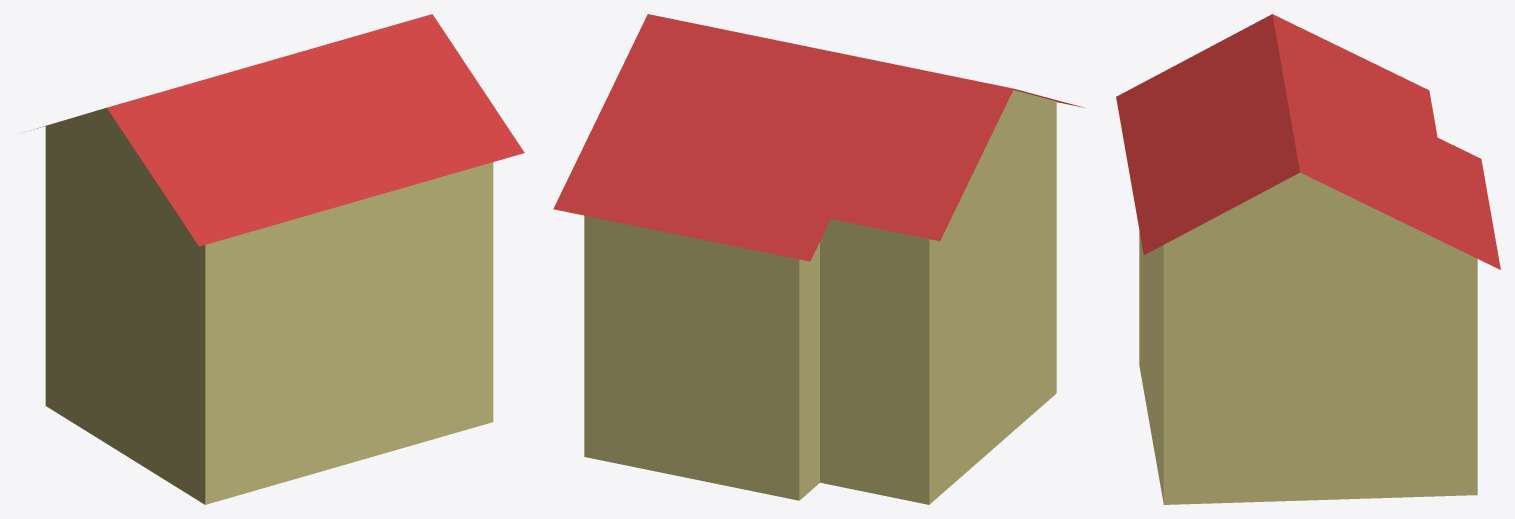
3 views of the same model, side by side, from view 1: azimuth 30°, elevation 25°; view 2: azimuth 150°, elevation 25°; view 3: azimuth 270°, elevation 25° (orthographic). The views are drawn at different scales.
Bounding box in the file's own units: 13.82 × 13.36 × 12.92.
